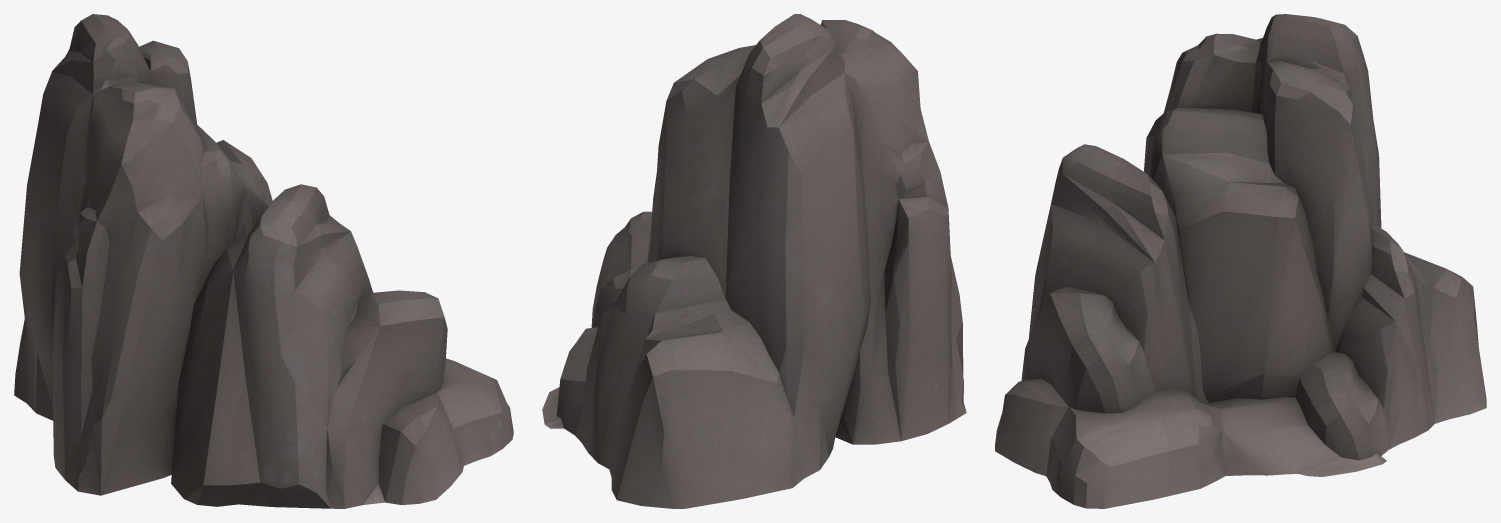
Rendered from rock1.dae.
3 renders of one model, left to right at view 1: azimuth 30°, elevation 25°; view 2: azimuth 150°, elevation 25°; view 3: azimuth 270°, elevation 25°, orthographic. The views are drawn at different scales.
Visible parts, largest first — view 1: rock001; view 2: rock001; view 3: rock001.
Boxes of the visible parts, x1,y1,x2,y2 form: rock001: [14, 14, 513, 508]; rock001: [542, 14, 966, 508]; rock001: [995, 14, 1486, 508].
Size of the model in its own units: 5.68 by 6.75 by 5.52.
1 material, 1 textured.
